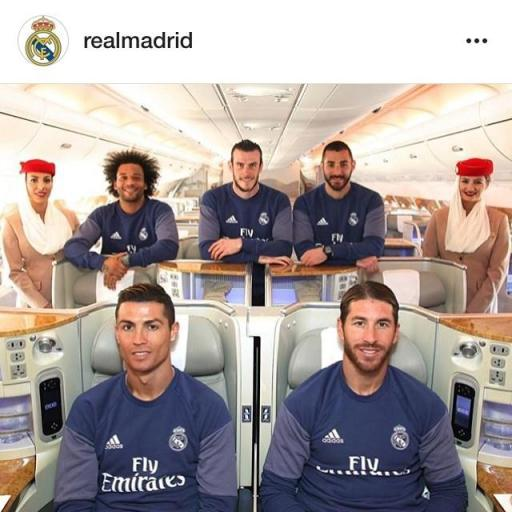Adidas: (320, 428, 343, 444), (104, 435, 123, 451), (315, 217, 329, 227), (223, 215, 238, 224)
Emirates: (98, 454, 188, 495), (313, 452, 414, 481)
